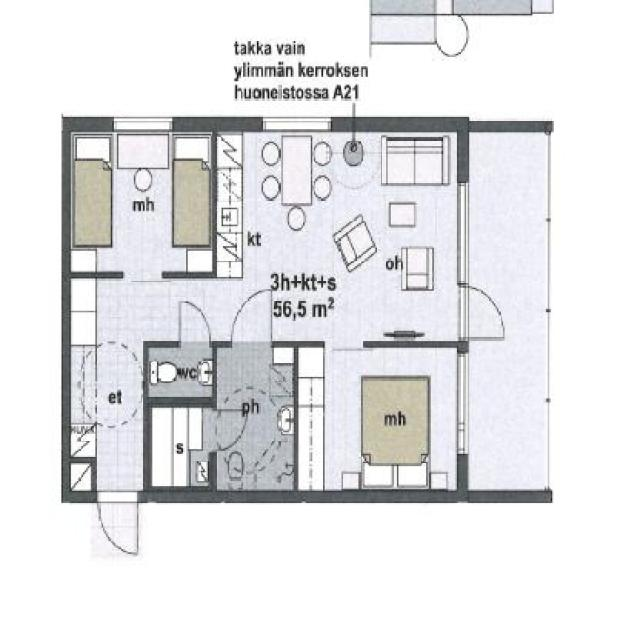door: (457, 279, 506, 346), (97, 489, 140, 562), (231, 288, 275, 342), (178, 300, 214, 349)
window: (455, 179, 471, 286), (457, 354, 469, 455), (266, 114, 332, 132), (112, 118, 176, 136)
zone: (69, 125, 465, 489), (469, 132, 549, 492), (300, 343, 457, 483), (74, 128, 215, 274), (215, 344, 294, 488), (150, 404, 208, 484), (148, 346, 212, 394)
